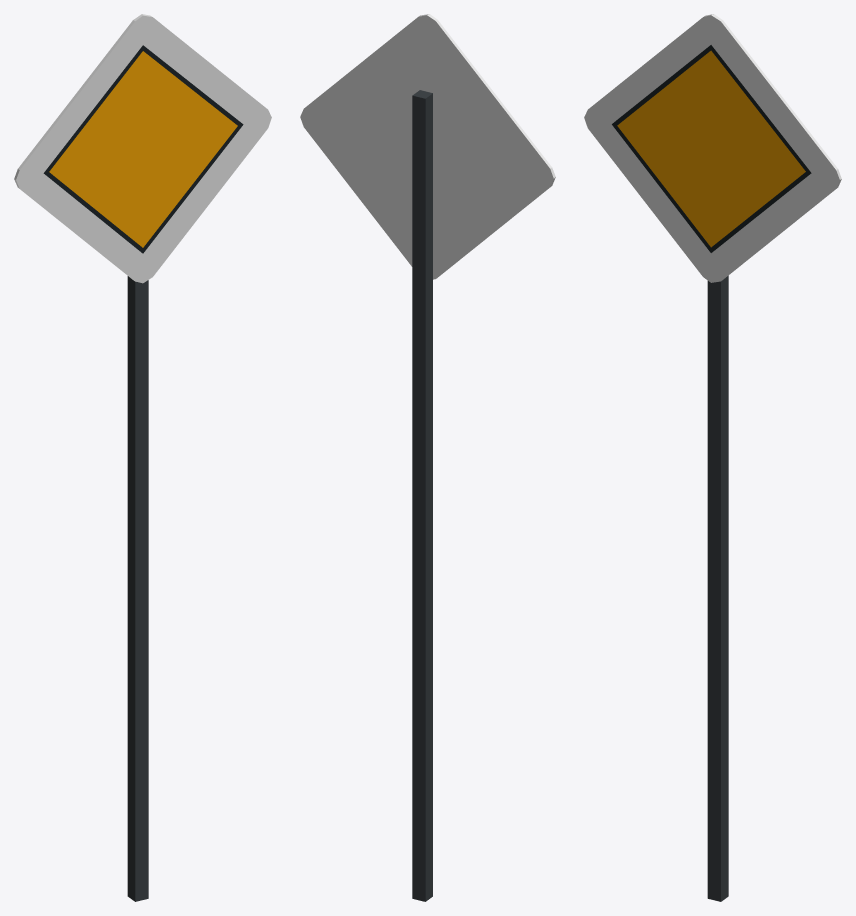
The model's file is SM_FloorProps_RoadSign_06.fbx.
3 renders of one model, left to right at view 1: azimuth 30°, elevation 25°; view 2: azimuth 150°, elevation 25°; view 3: azimuth 330°, elevation 25°, orthographic.
Parts seen in each view (by area): view 1: SM_FloorProps_RoadSign_06; view 2: SM_FloorProps_RoadSign_06; view 3: SM_FloorProps_RoadSign_06.
Boxes of the visible parts, left/top/right/bottom form: SM_FloorProps_RoadSign_06: left=14, top=14, right=271, bottom=901; SM_FloorProps_RoadSign_06: left=300, top=14, right=555, bottom=901; SM_FloorProps_RoadSign_06: left=584, top=14, right=841, bottom=901.
Bounding box in the file's own units: 0.8264 × 2.74 × 0.0554.
